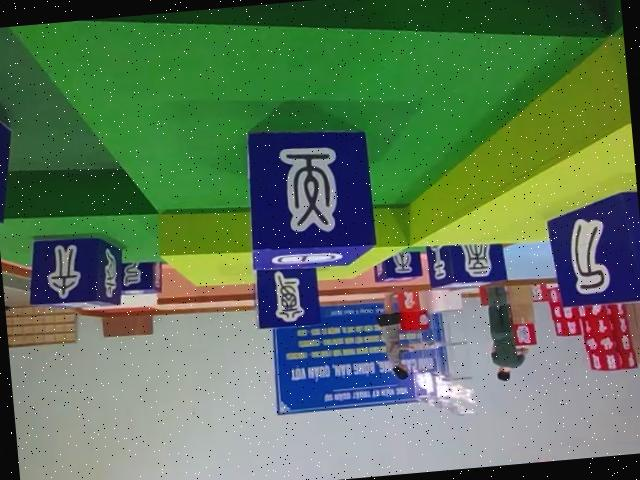R2 Fake Blue: (238, 122, 375, 275), (543, 188, 640, 308), (21, 233, 123, 315), (251, 260, 321, 328), (427, 238, 508, 290), (0, 56, 18, 224), (115, 261, 163, 299), (374, 250, 424, 284)
